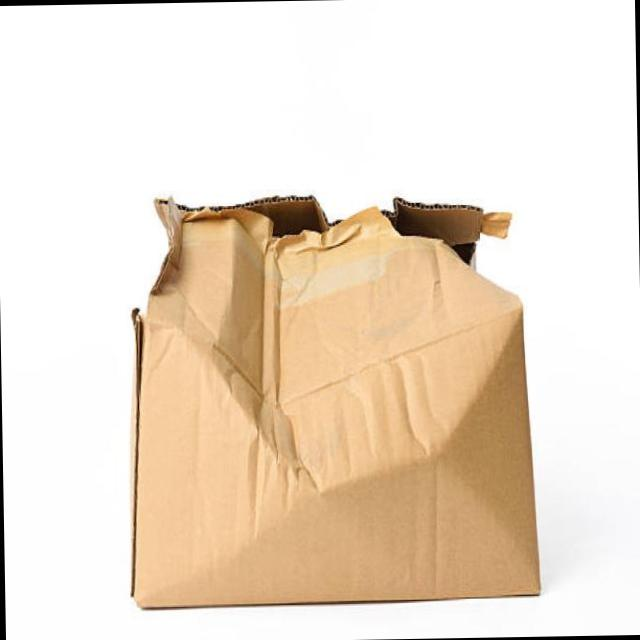box: (72, 130, 556, 488)
